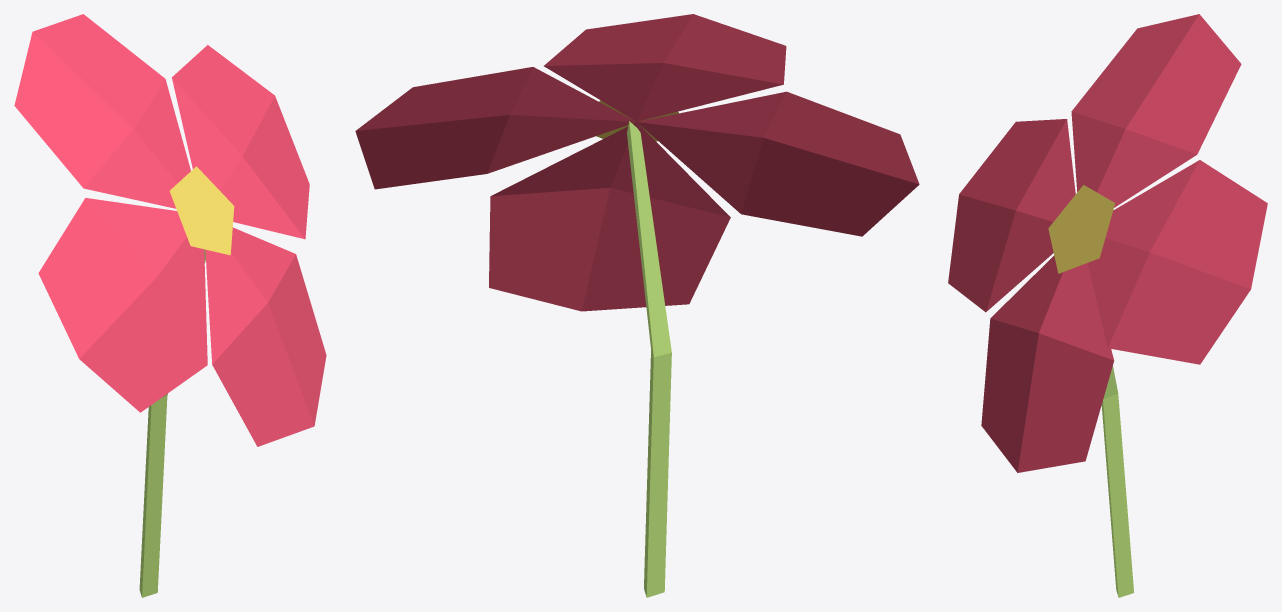
The model's file is Flower_c_OneS_06.fbx.
3 views of the same model, side by side, from view 1: azimuth 30°, elevation 25°; view 2: azimuth 150°, elevation 25°; view 3: azimuth 270°, elevation 25° (orthographic). The views are drawn at different scales.
Parts seen in each view (by area): view 1: Flower_c_OneS_06; view 2: Flower_c_OneS_06; view 3: Flower_c_OneS_06.
Part boxes in pixels (<box>): Flower_c_OneS_06: <box>14,14,326,597</box>; Flower_c_OneS_06: <box>355,14,919,597</box>; Flower_c_OneS_06: <box>948,14,1267,597</box>.
Bounding box in the file's own units: 25.84 × 37.33 × 19.91.
